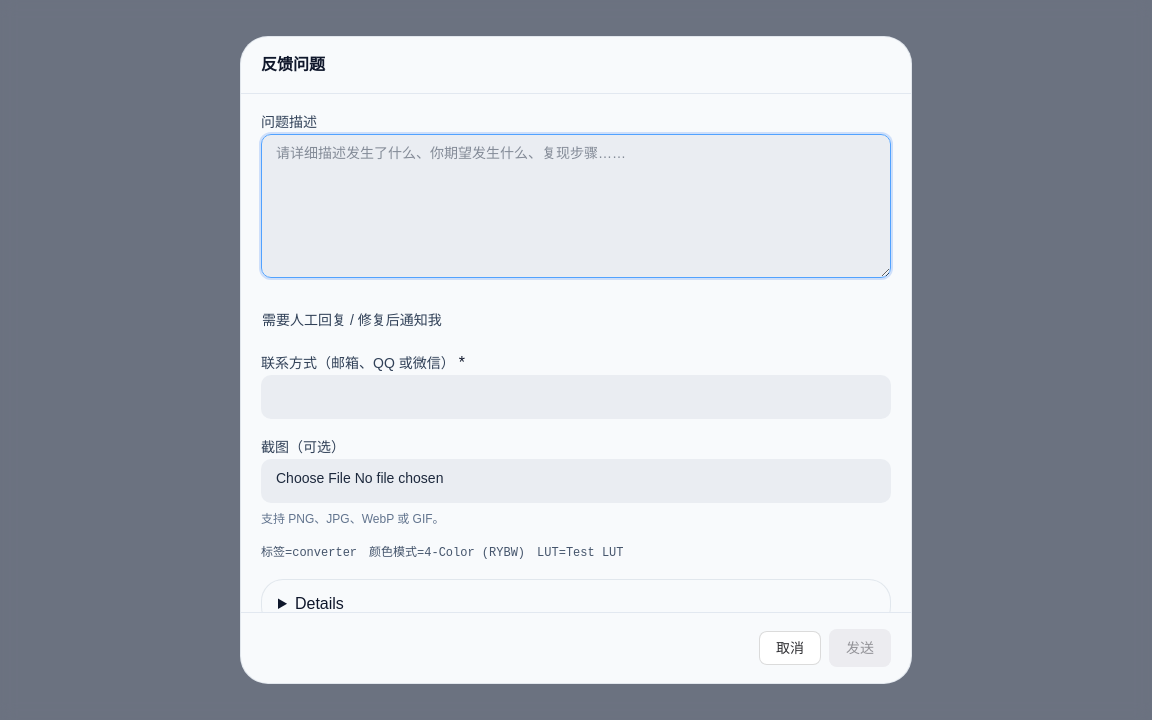
Test: BugReportModal › requires a reply contact by default
Type "Preview failed" into the text box labelled "问题描述". click: (576, 206)
box: [261,134,891,278]
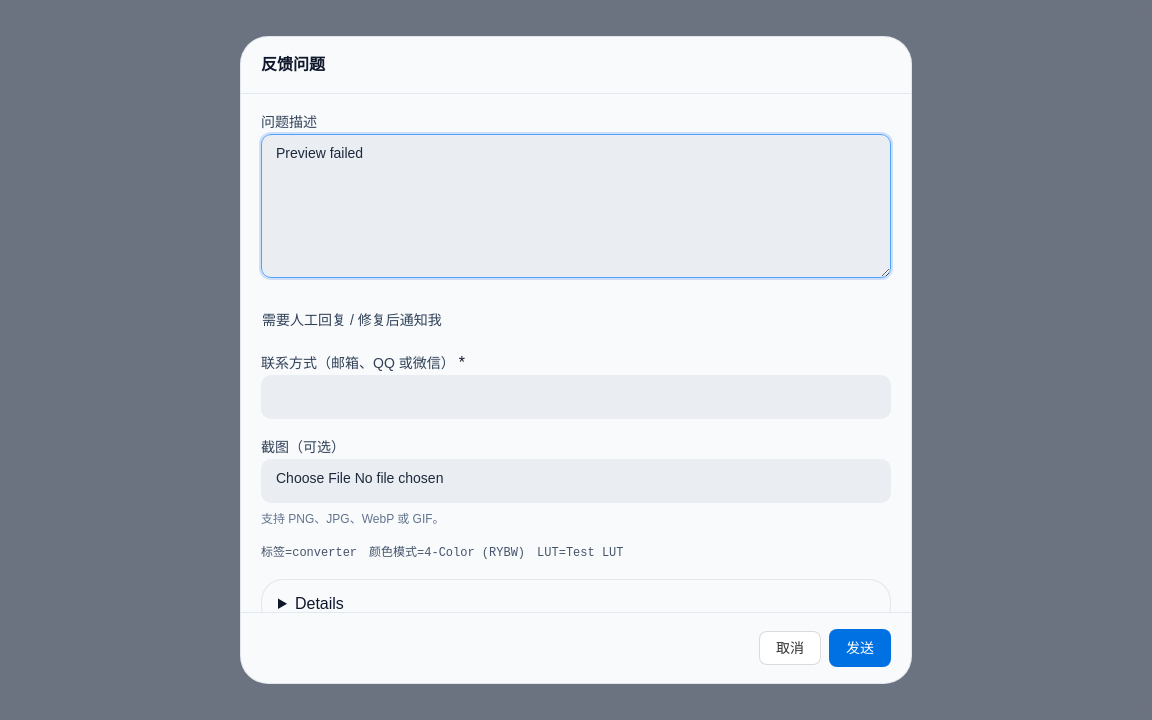
expect the switch labelled "需要人工回复 / 修复后通知我" is checked: met, box [262,310,442,330]
Click the button "发送". click: click(860, 648)
box: [829,629,891,667]
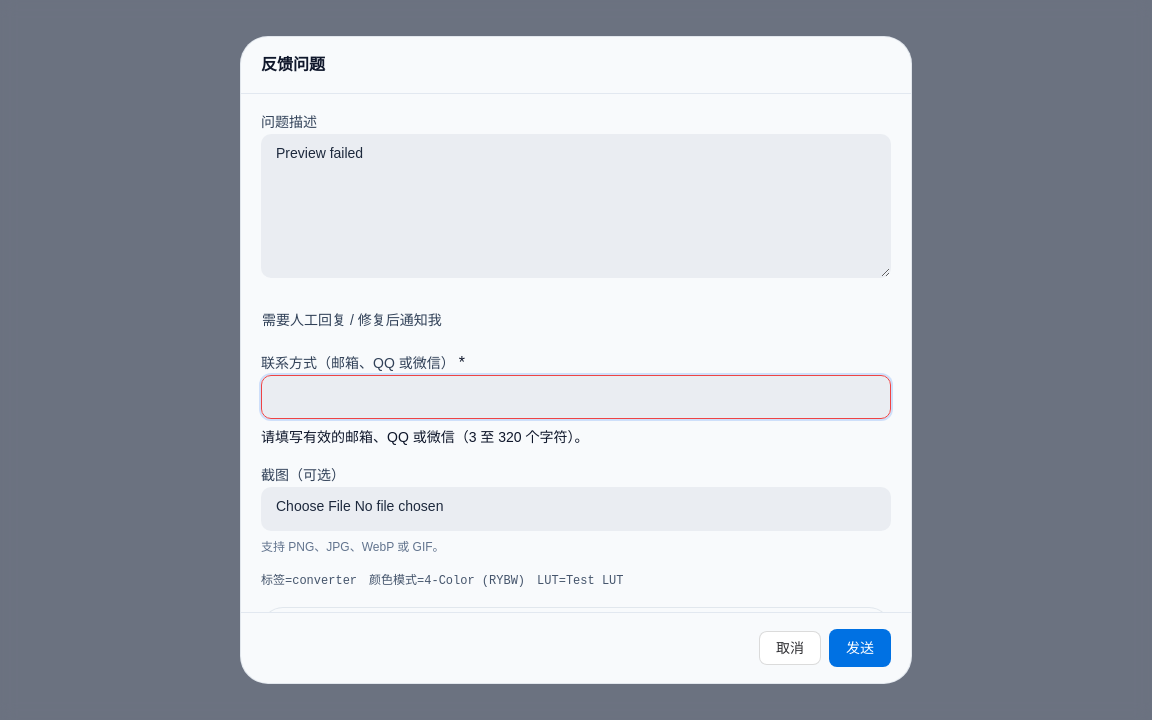
expect the text "请填写有效的邮箱、QQ 或微信（3 至 320 个字符）。" is shown: met, box [261,429,588,445]
